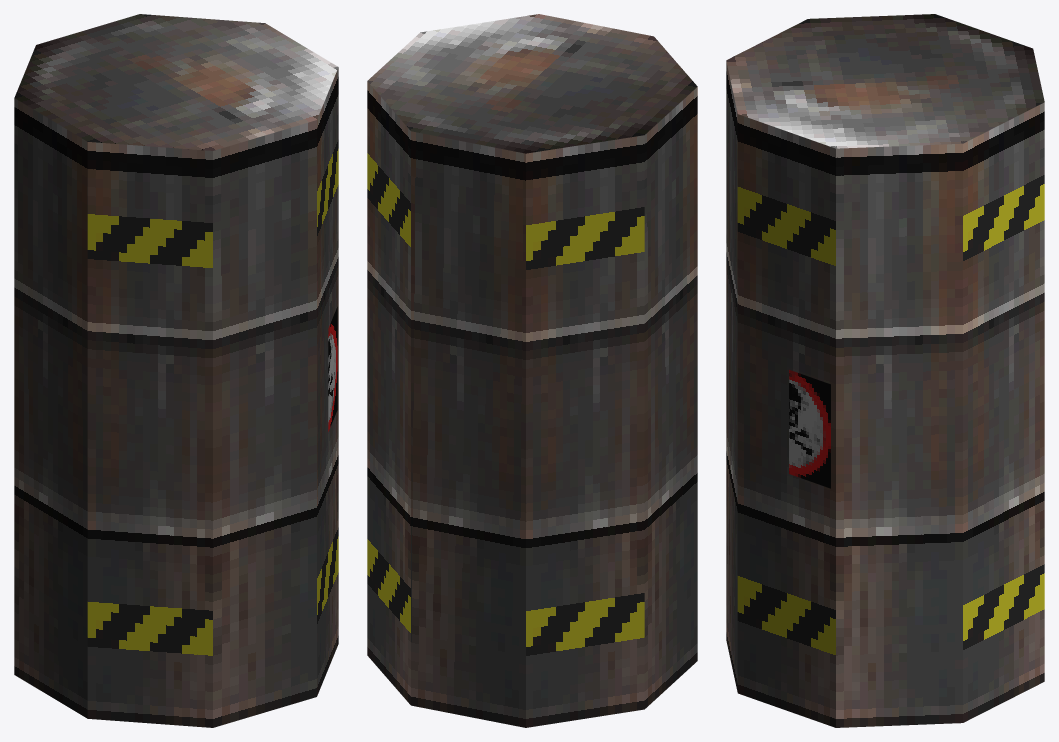
File: primary_128.glb
3 renders of one model, left to right at view 1: azimuth 30°, elevation 25°; view 2: azimuth 150°, elevation 25°; view 3: azimuth 270°, elevation 25°, orthographic.
Parts seen in each view (by area): view 1: Object; view 2: Object; view 3: Object.
Boxes of the visible parts, left/top/right/bottom form: Object: left=14, top=14, right=338, bottom=727; Object: left=367, top=14, right=697, bottom=727; Object: left=726, top=14, right=1044, bottom=727.
Bounding box in the file's own units: 0.7452 × 1.49 × 0.7452.
Materials: 9 (9 with a texture image).
